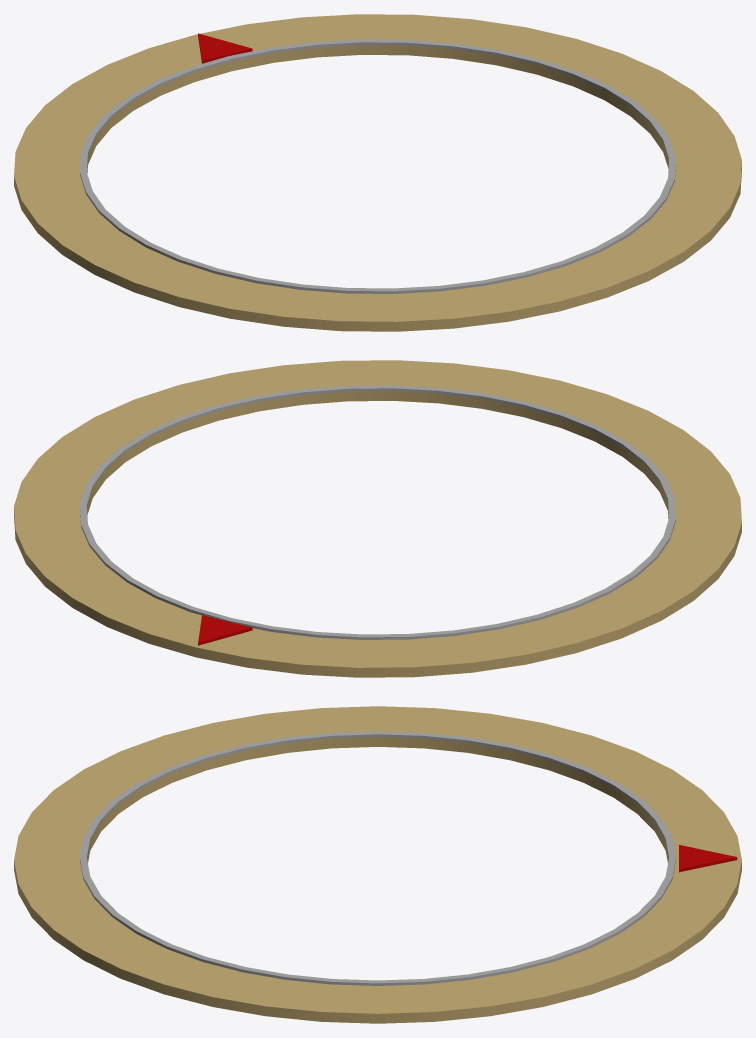
File: RedRing.fbx
3 renders of one model, top to bottom at view 1: azimuth 30°, elevation 25°; view 2: azimuth 150°, elevation 25°; view 3: azimuth 270°, elevation 25°, orthographic.
Parts seen in each view (by area): view 1: pCube8; view 2: pCube8; view 3: pCube8.
Boxes of the visible parts, x1=… form: pCube8: x1=14, y1=14, x2=741, y2=331; pCube8: x1=14, y1=360, x2=741, y2=677; pCube8: x1=14, y1=706, x2=741, y2=1023.
Bounding box in the file's own units: 1 × 0.0195 × 1.
